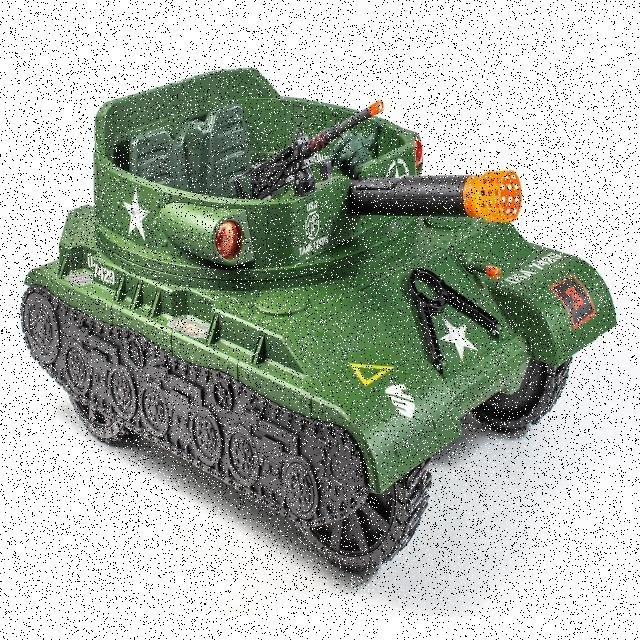MIL_MBT: (16, 61, 620, 592)
